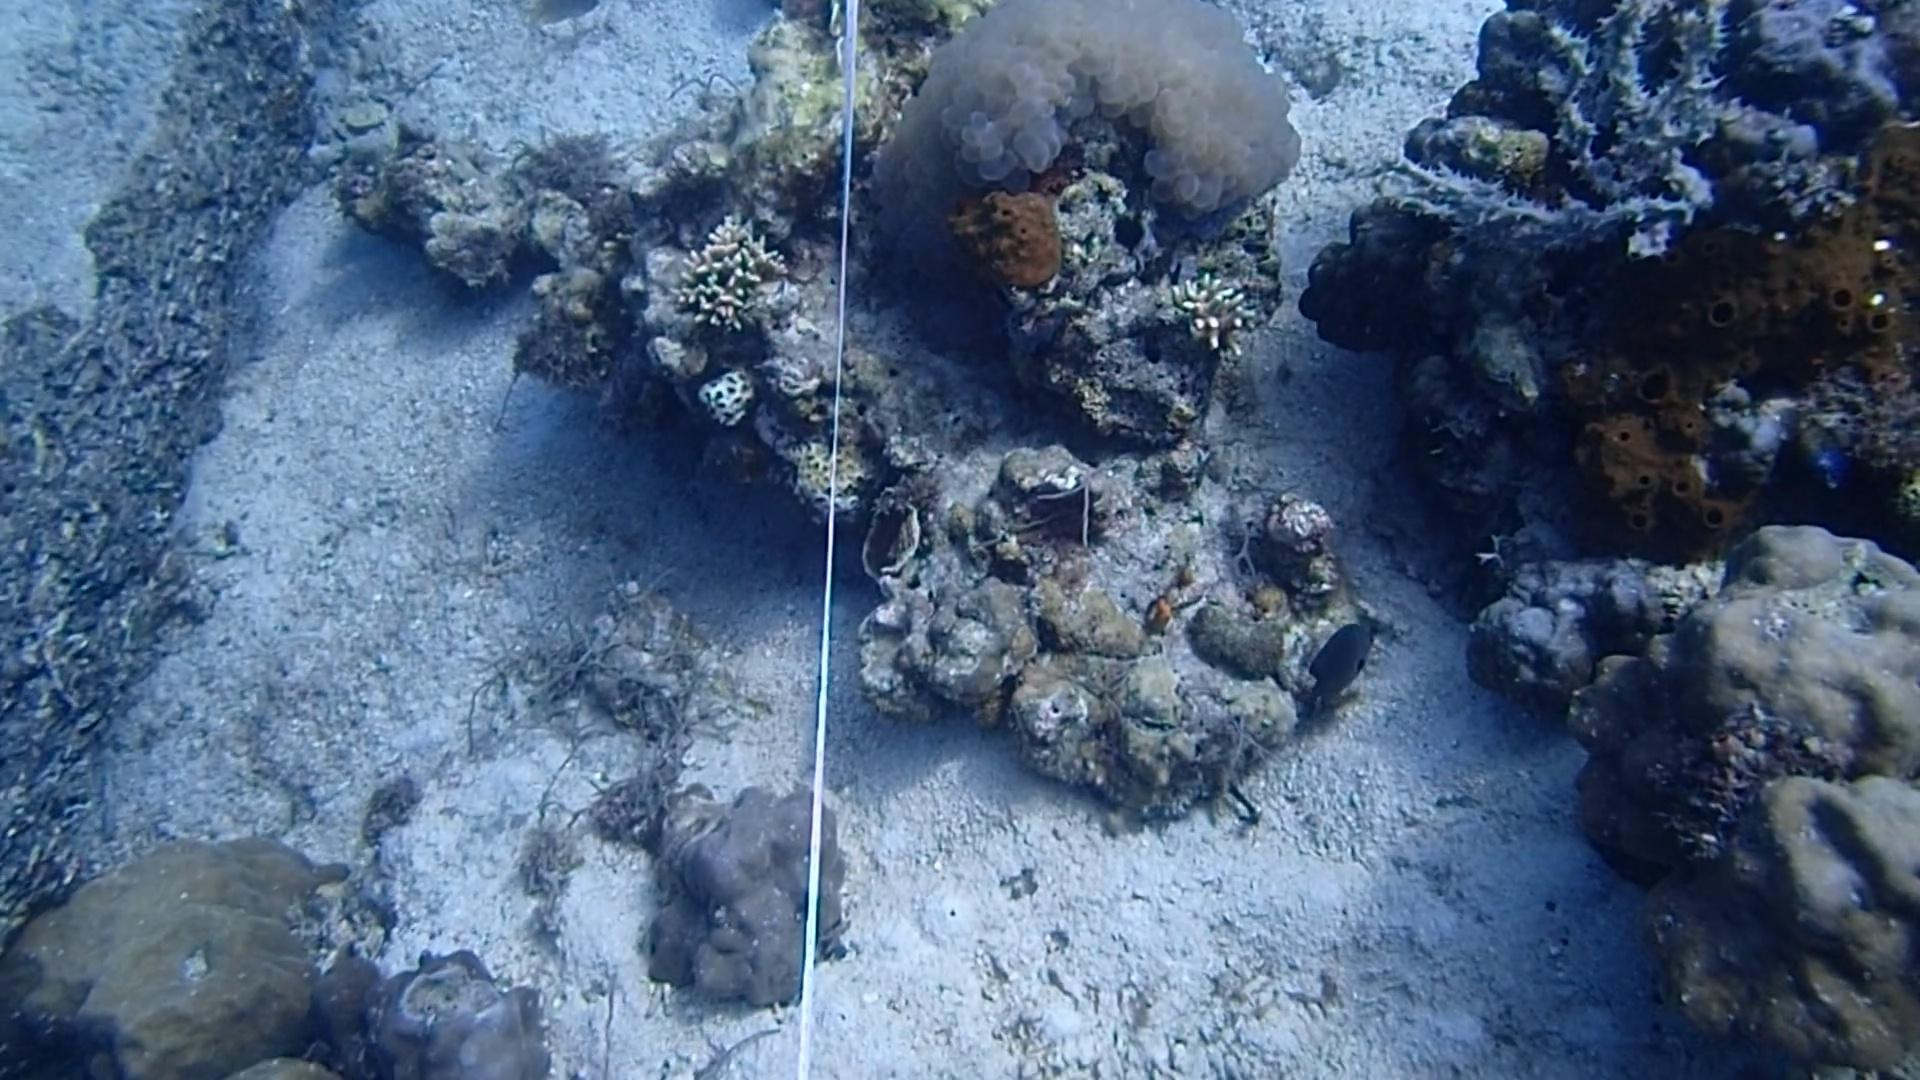Big Dark Blue Fish: (1296, 601, 1398, 713)
